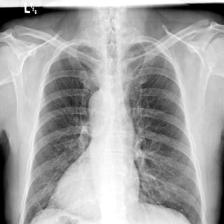normal: (19, 36, 206, 224)
